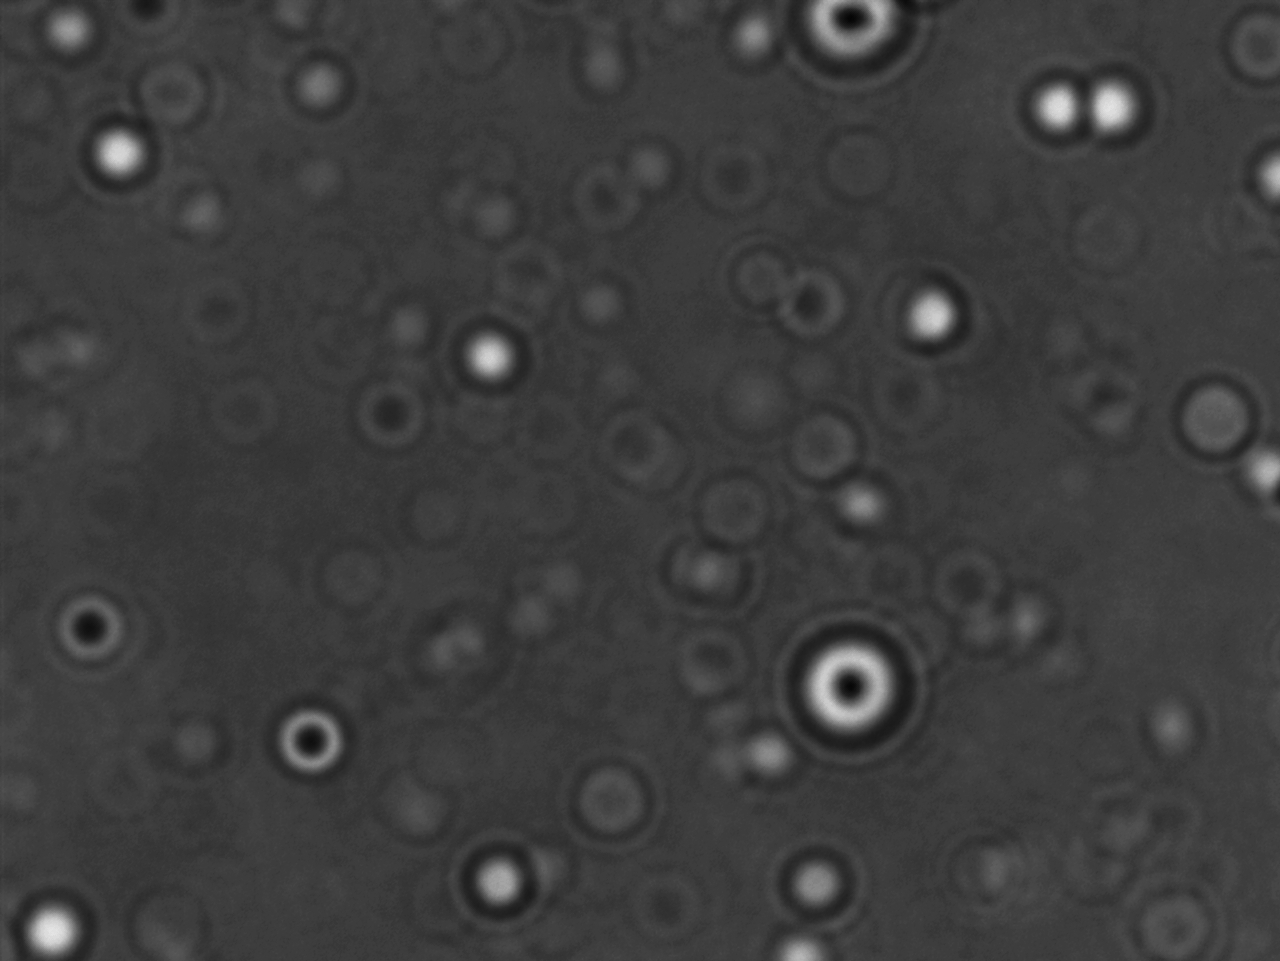depth:16: (780, 607, 931, 761)
